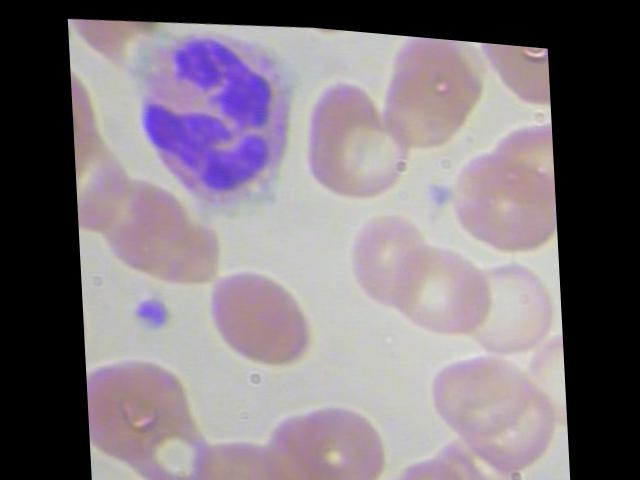Platelets: (128, 283, 178, 329)
Red Blood Cells: (368, 26, 496, 165), (205, 241, 322, 382), (384, 221, 501, 340), (440, 237, 557, 355), (446, 133, 558, 252), (424, 330, 534, 446), (86, 163, 196, 279), (296, 69, 387, 198), (335, 198, 426, 305), (288, 390, 392, 479), (186, 420, 290, 479), (69, 12, 169, 72), (475, 33, 552, 105), (361, 443, 471, 479)
White Blood Cells: (132, 10, 310, 227)
